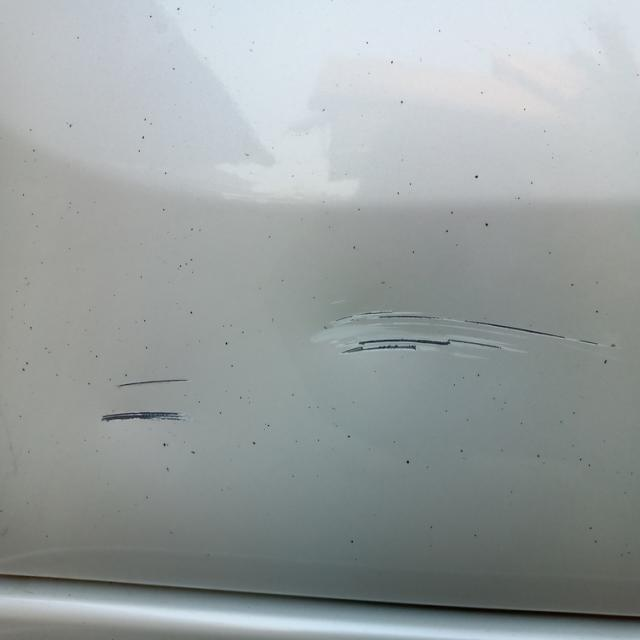scratch: (310, 302, 623, 364), (93, 370, 204, 429)
